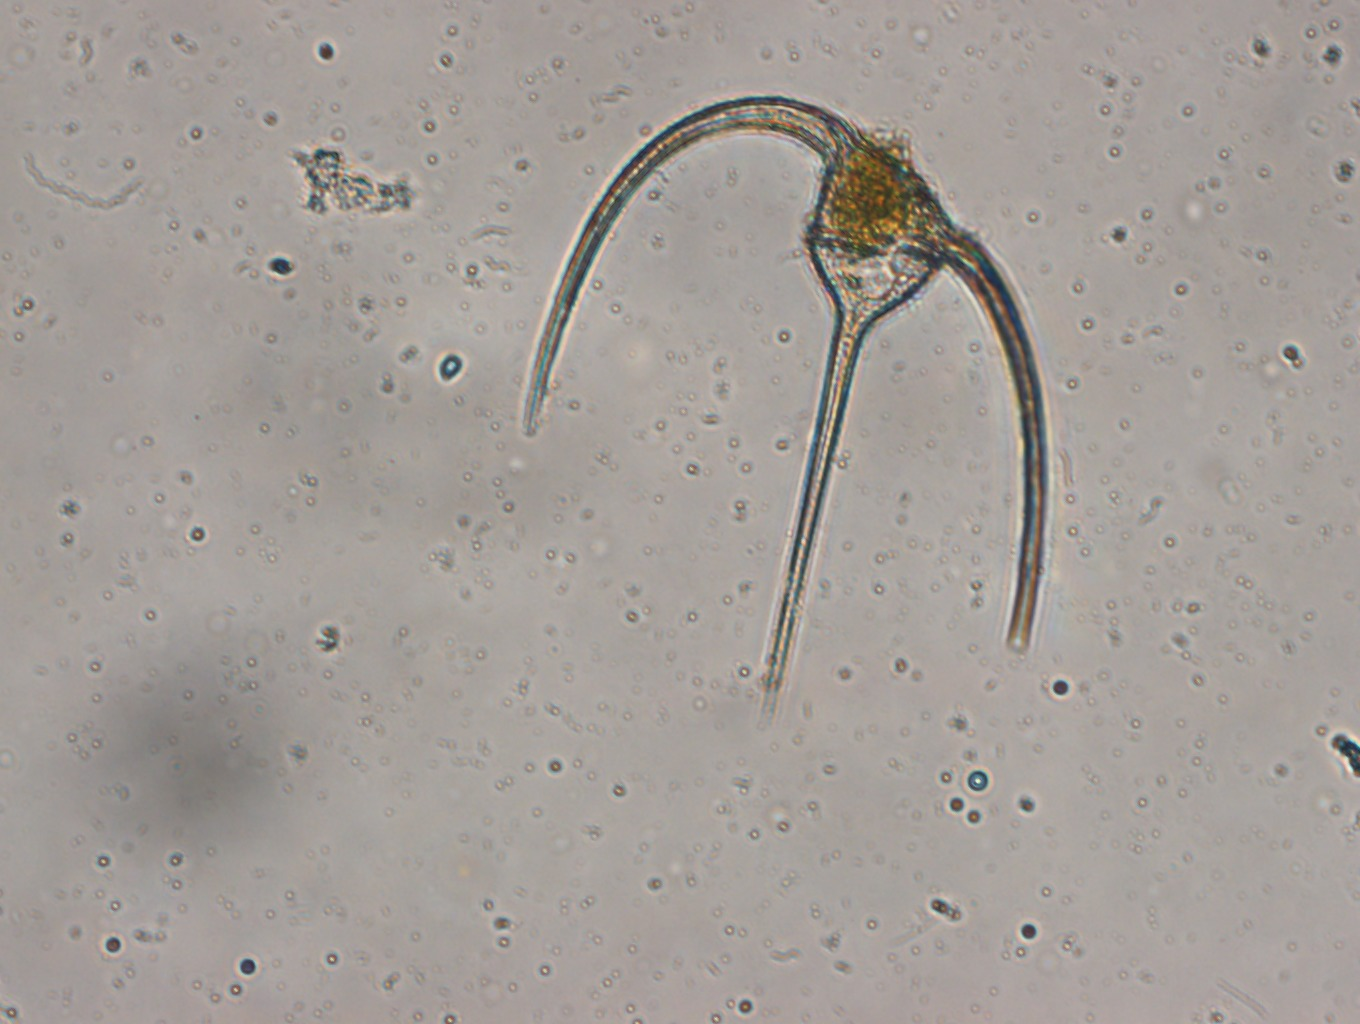ceratium trichoceros: (497, 86, 1058, 714)
